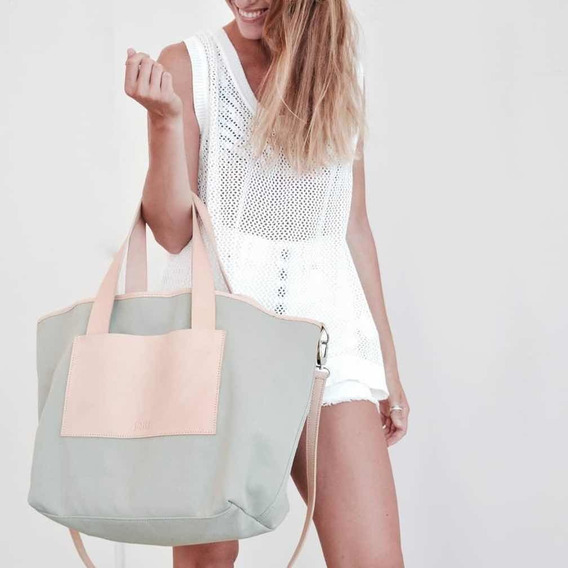cartera: (24, 191, 329, 545)
